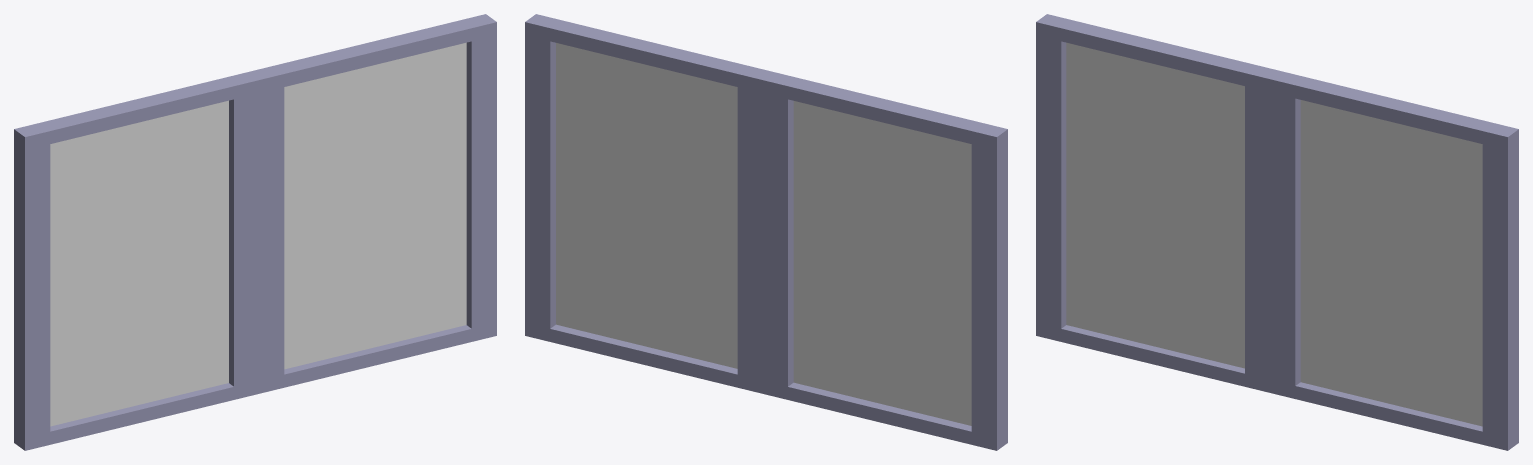
The model's file is Janela.fbx.
3 views of the same model, side by side, from view 1: azimuth 30°, elevation 25°; view 2: azimuth 150°, elevation 25°; view 3: azimuth 330°, elevation 25° (orthographic).
Visible parts, largest first — view 1: Plane.001; view 2: Plane.001; view 3: Plane.001.
Part boxes in pixels (left/top/right/bottom): Plane.001: left=14, top=14, right=496, bottom=450; Plane.001: left=525, top=14, right=1007, bottom=450; Plane.001: left=1036, top=14, right=1518, bottom=450.
Size of the model in its own units: 425 by 270 by 17.25.
